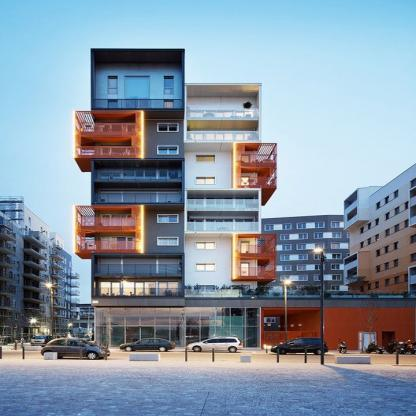Balcony: (184, 289, 416, 298), (94, 171, 183, 181), (94, 288, 183, 297), (94, 99, 183, 108), (94, 194, 183, 203), (94, 265, 183, 274), (187, 222, 259, 232), (187, 109, 259, 119), (187, 132, 259, 142), (187, 199, 259, 209), (75, 241, 135, 250), (75, 123, 135, 132), (75, 147, 135, 156), (75, 218, 135, 227), (240, 268, 276, 276), (240, 155, 276, 163), (240, 178, 276, 186), (240, 245, 276, 253)
Building Outline: (72, 48, 416, 351)
Door: (125, 100, 149, 112), (240, 155, 248, 168), (240, 263, 248, 276), (240, 242, 248, 255), (240, 176, 248, 189)
Facade: (73, 48, 278, 349)
Floor Slab: (91, 297, 416, 300), (75, 226, 184, 229), (75, 250, 184, 253), (75, 132, 183, 135), (75, 156, 183, 159), (91, 181, 184, 184), (91, 204, 184, 207), (92, 274, 185, 277), (92, 109, 184, 112), (364, 333, 375, 350)
Glass Wall: (95, 308, 260, 348)
Window: (101, 282, 177, 296), (101, 259, 177, 273), (101, 169, 177, 181), (101, 190, 177, 202), (188, 219, 256, 231), (188, 197, 256, 209), (188, 111, 256, 122), (188, 133, 256, 144), (125, 77, 149, 99), (103, 238, 136, 250), (103, 124, 136, 136), (103, 147, 136, 159), (103, 215, 136, 227), (232, 285, 251, 295), (196, 285, 215, 295), (159, 124, 178, 131), (159, 147, 178, 154), (159, 215, 178, 222), (159, 238, 178, 245), (196, 155, 215, 162), (196, 242, 215, 249), (196, 177, 215, 184), (196, 264, 215, 271), (109, 78, 117, 94), (165, 77, 173, 93), (165, 101, 172, 112), (110, 101, 117, 112), (359, 333, 362, 349)
